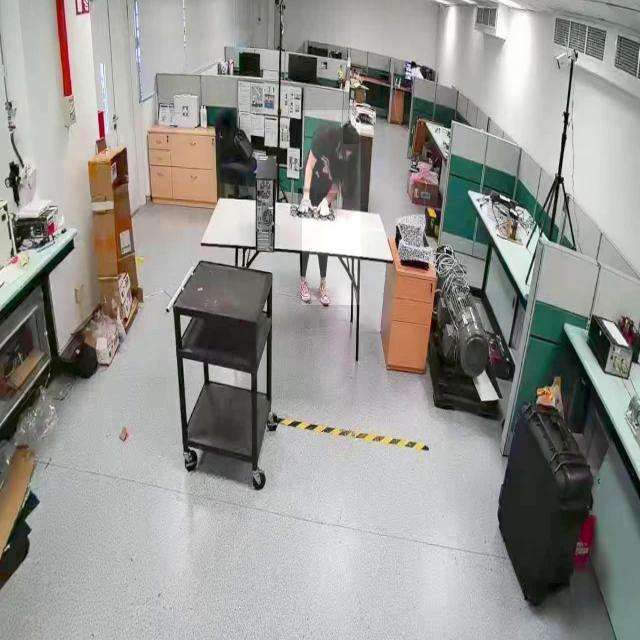hand_glove: (317, 193, 337, 221), (298, 188, 314, 218)
head_nohelmet: (343, 121, 360, 145)
person: (302, 110, 361, 306)
shoes: (296, 272, 313, 306), (318, 275, 331, 305)
